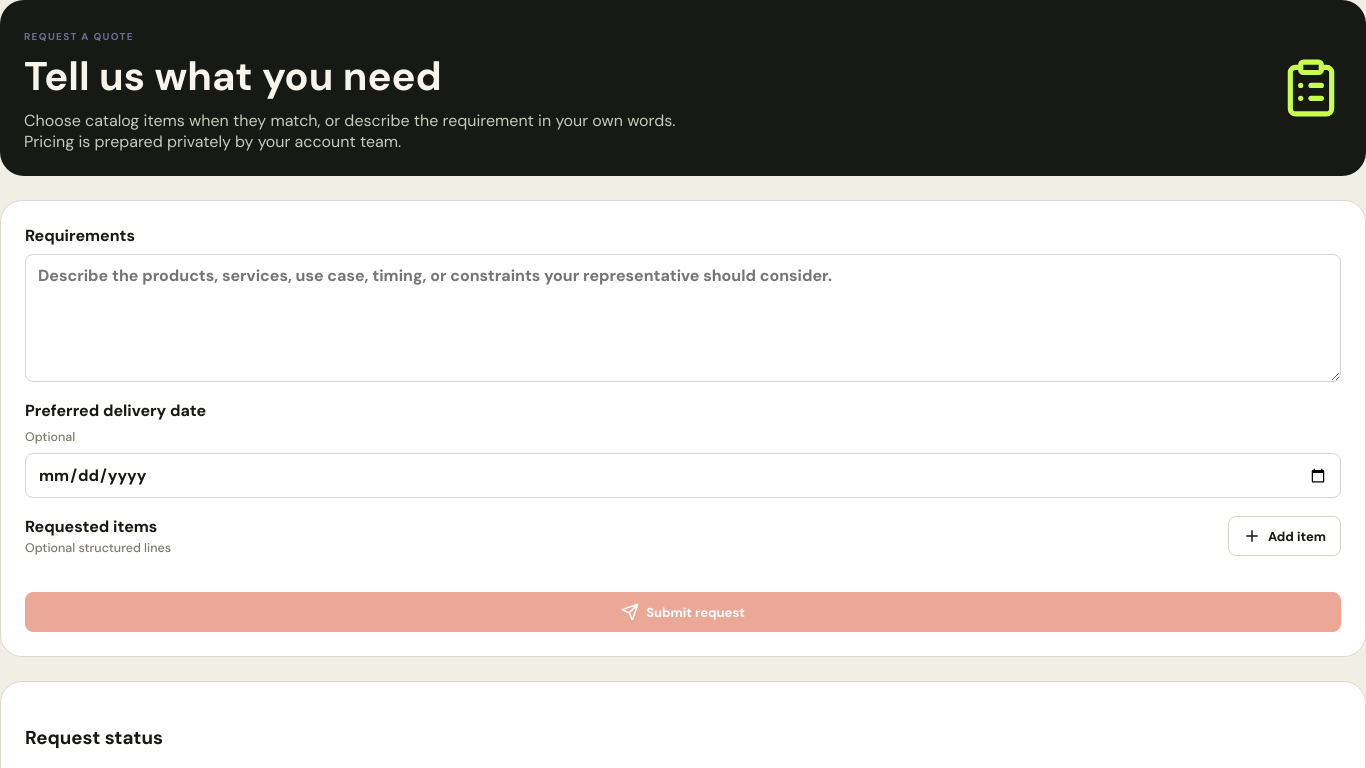
it: portal quote requests › submits the customer requirement without any ownership or pricing fields
Replace the text in the text box labelled "Requirements" with "Quote a secure workstation bundle". click: (683, 318)
box: [25,254,1341,382]
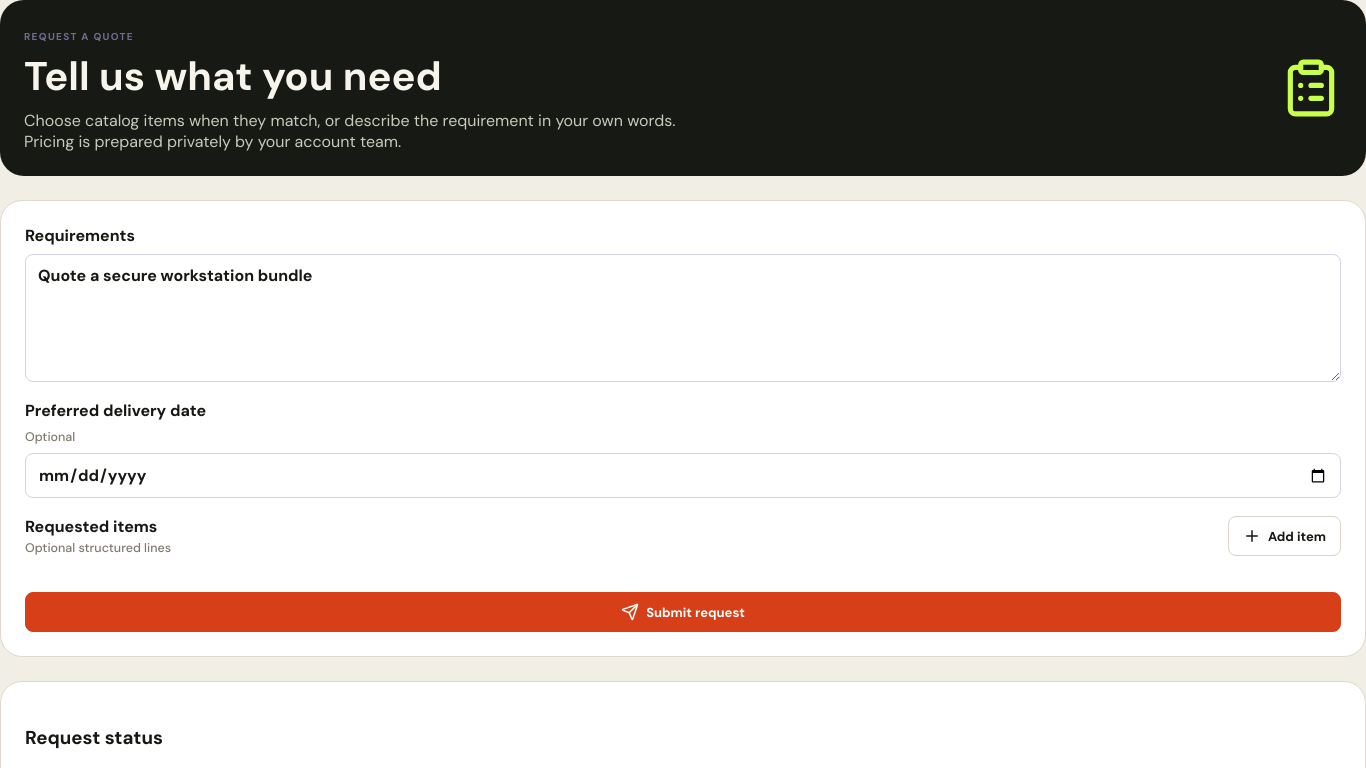
Click the button "Submit request". click: (683, 612)
box: [25,592,1341,632]
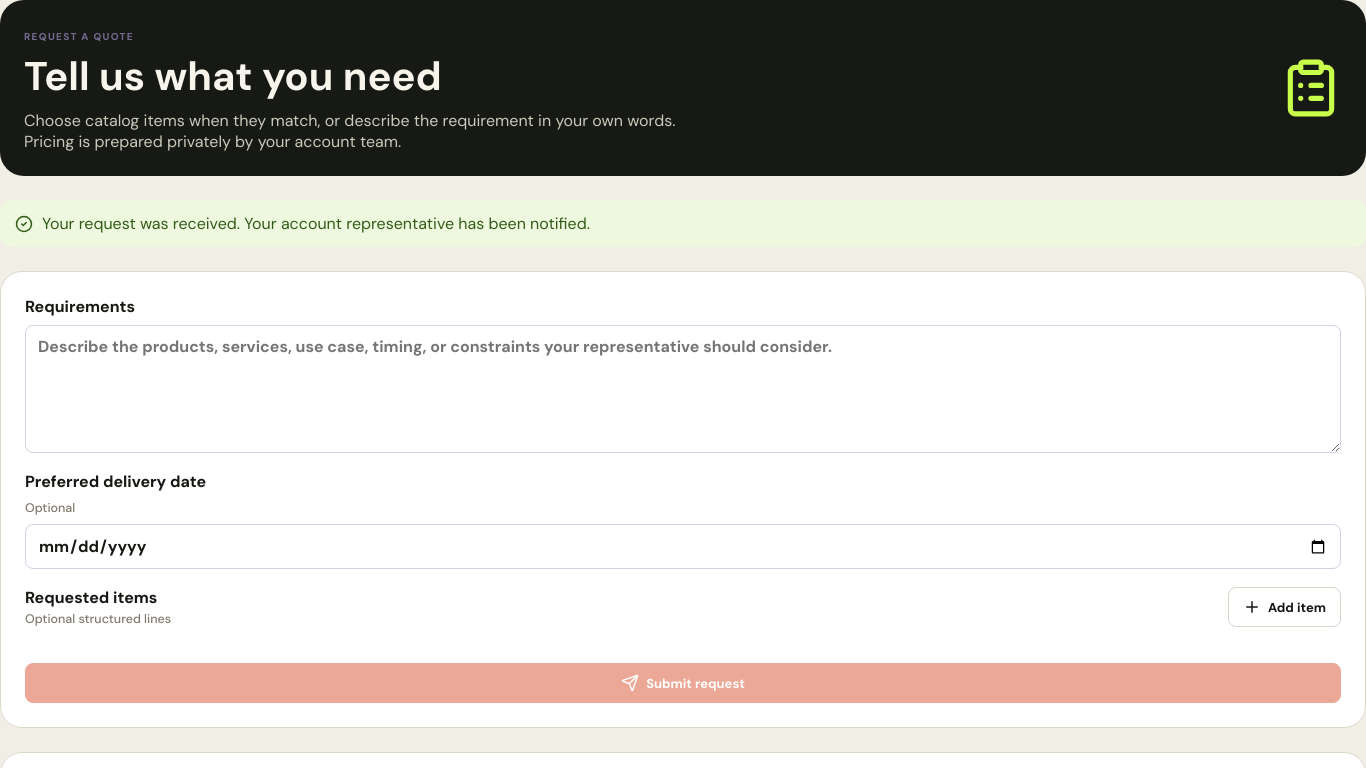
Check: the text "Your request was received. Your account representative has been notified." is shown, box [0,200,1365,247]
